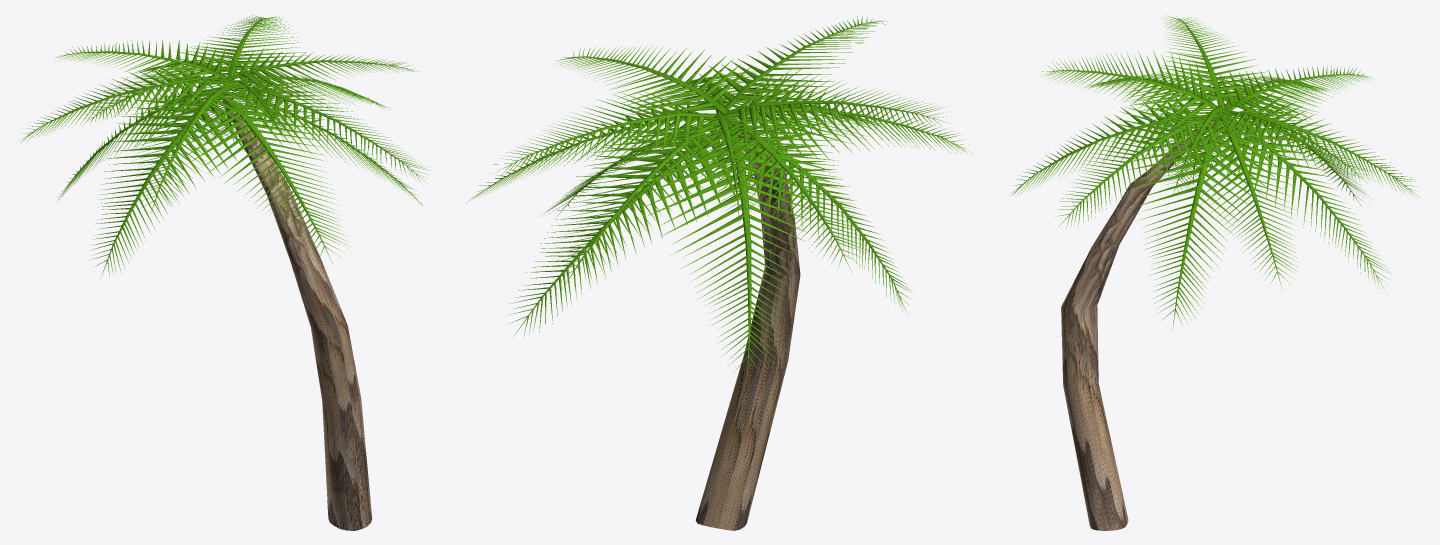
File: PalmTree1.fbx
The picture shows the model from 3 angles, left to right: view 1: azimuth 30°, elevation 25°; view 2: azimuth 150°, elevation 25°; view 3: azimuth 270°, elevation 25°; orthographic projection. The views are drawn at different scales.
Parts seen in each view (by area): view 1: PalmTrunk; view 2: PalmTrunk; view 3: PalmTrunk.
Boxes of the visible parts, <box> form: PalmTrunk: <box>20,15,429,530</box>; PalmTrunk: <box>468,14,972,530</box>; PalmTrunk: <box>1012,15,1419,530</box>.
Bounding box in the file's own units: 33.83 × 39.29 × 35.84.
